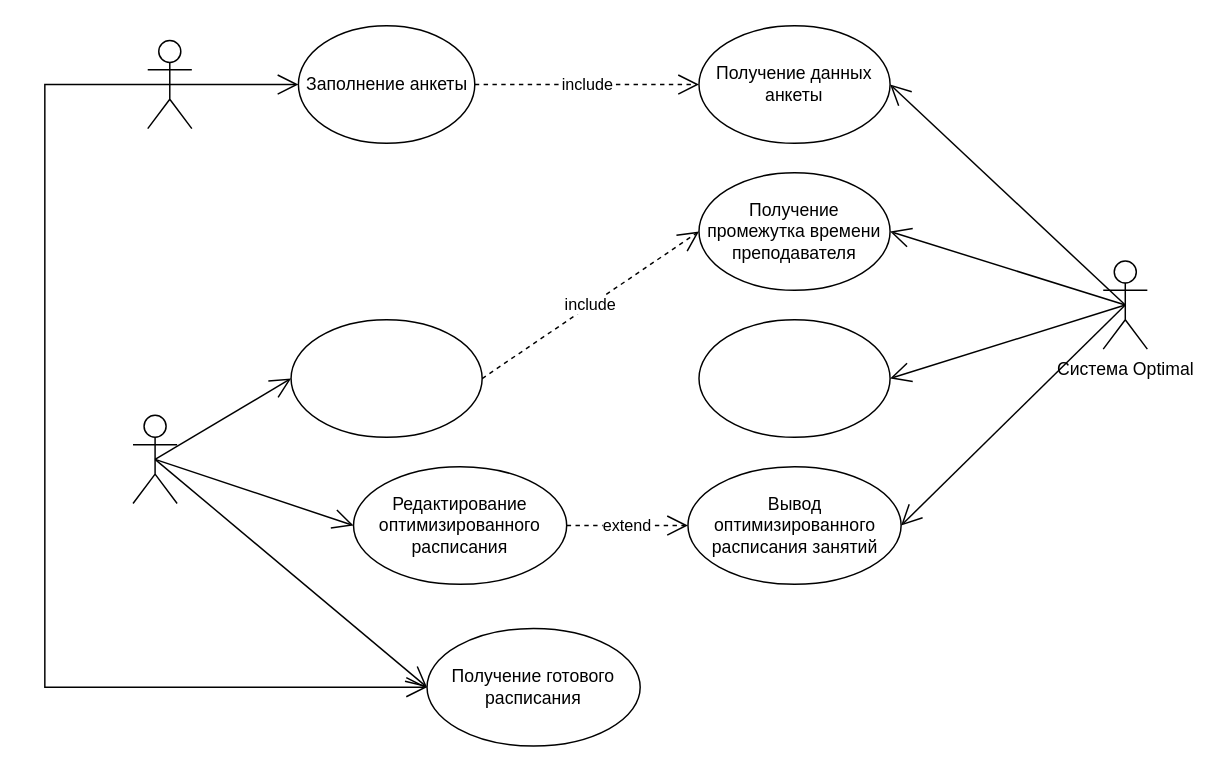
This 1219x772 diagram has some shape labels left out. The shapes that lost their labels are listed below. From the top down, each one's centre as x and y in pixels, then its label:
(x=169, y=84): Ученик
(x=386, y=377): Заполнение промежутка времени преподавателя
(x=794, y=377): Обработка данных алгоритмом оптимизации
(x=154, y=458): Преподаватель
